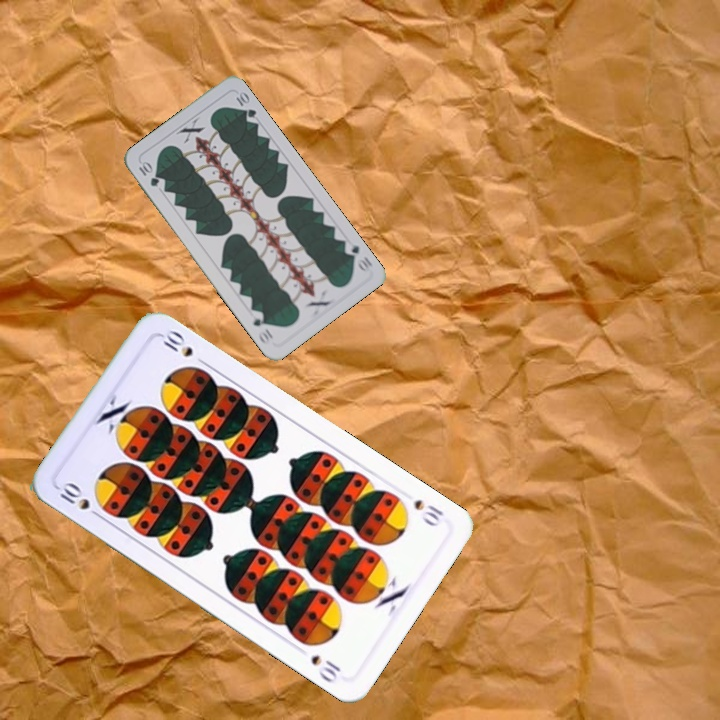G10: (340, 237, 376, 276), (135, 157, 162, 189)
S10: (55, 478, 105, 522), (410, 495, 447, 523)
